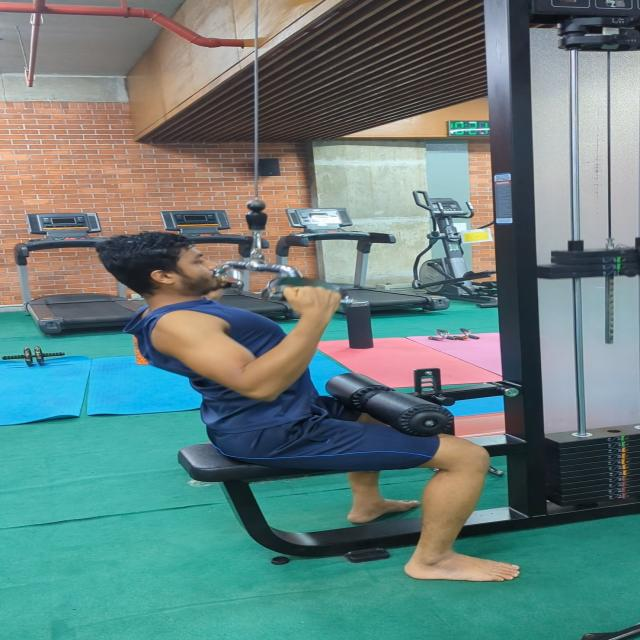Normal_LatPulldown: (86, 223, 551, 592)
